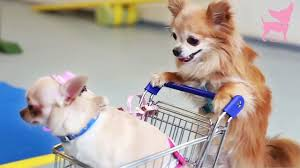chihuahua: (163, 1, 298, 167), (20, 72, 186, 167)
